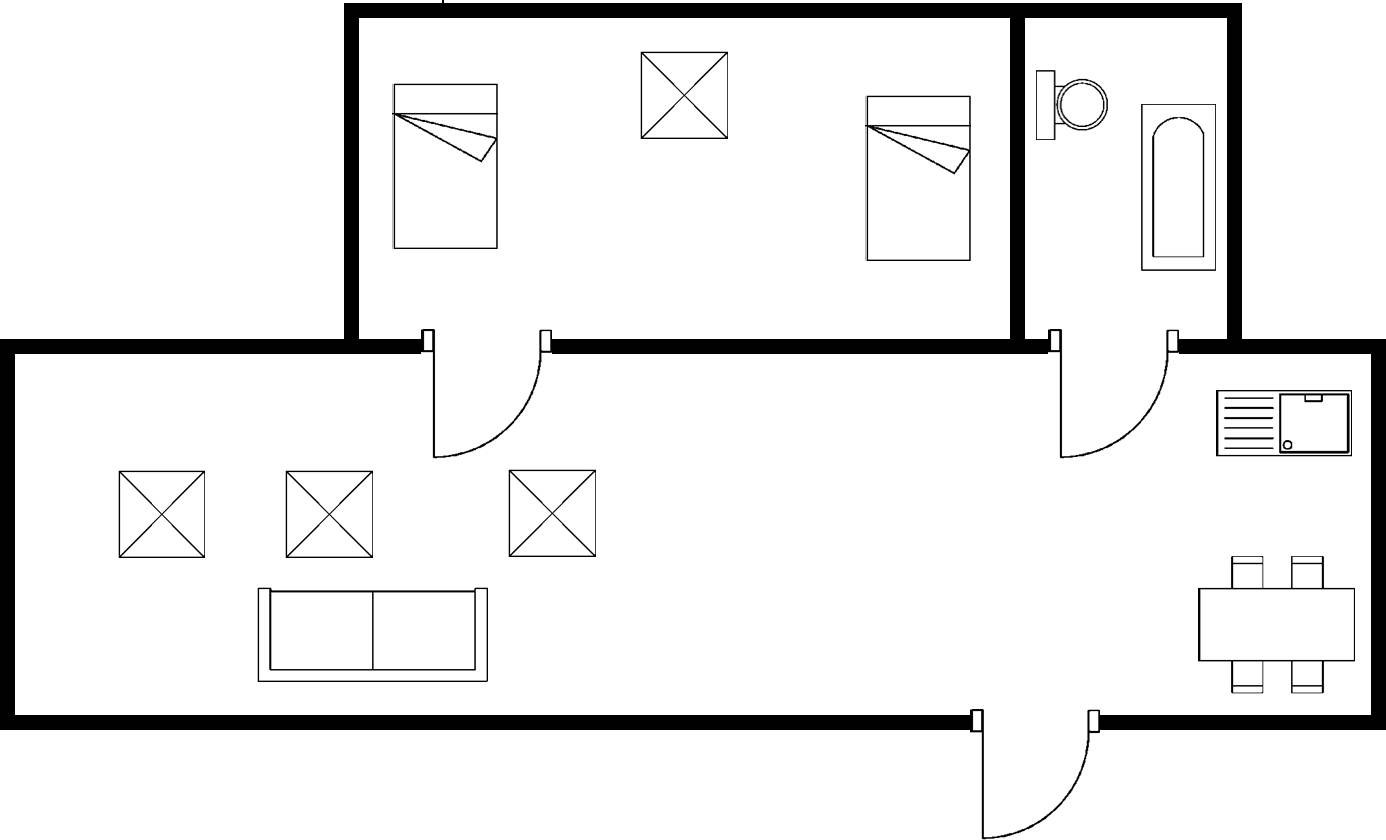bed: (855, 89, 975, 269), (387, 77, 505, 256)
coffee_table: (501, 464, 603, 565), (635, 44, 734, 145), (280, 464, 379, 565), (113, 465, 211, 564)
dining_table: (1191, 547, 1361, 701)
large_sink: (1032, 64, 1113, 147)
large_sofa: (251, 583, 495, 688)
sink: (1210, 385, 1357, 464)
tub: (1136, 98, 1222, 281)
